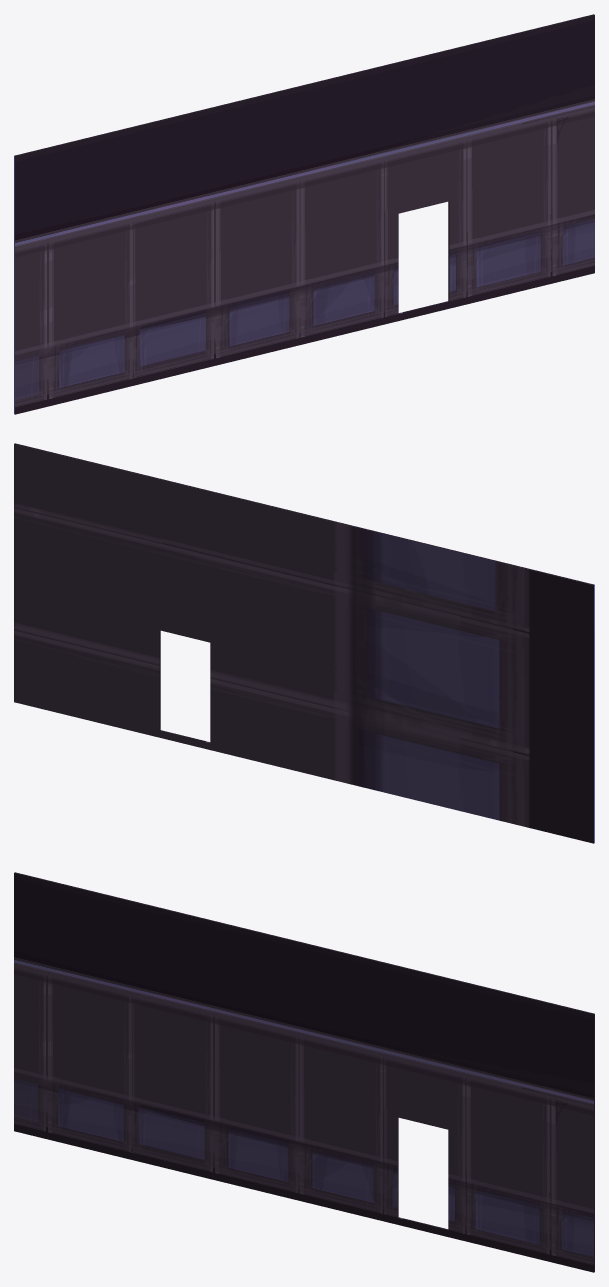
The model's file is SM_resLwall.fbx.
3 renders of one model, top to bottom at view 1: azimuth 30°, elevation 25°; view 2: azimuth 150°, elevation 25°; view 3: azimuth 330°, elevation 25°, orthographic.
Visible parts, largest first — view 1: SM_reswallL; view 2: SM_reswallL; view 3: SM_reswallL.
Boxes of the visible parts, box(x1,y1,x2,y2) form: SM_reswallL: box(14, 14, 594, 414); SM_reswallL: box(14, 443, 594, 843); SM_reswallL: box(14, 872, 594, 1272).
Bounding box in the file's own units: 1063 × 452 × 3.23.
